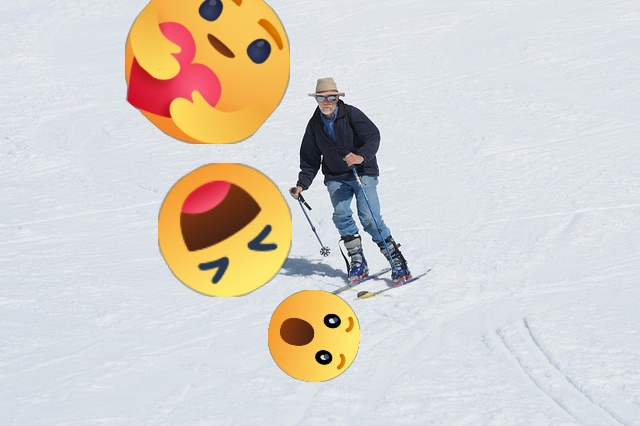care: (125, 0, 290, 144)
haha: (158, 163, 292, 297)
wow: (268, 290, 360, 382)
